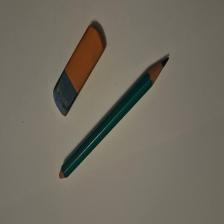eraser: (54, 26, 107, 118)
pencil: (60, 58, 170, 181)
